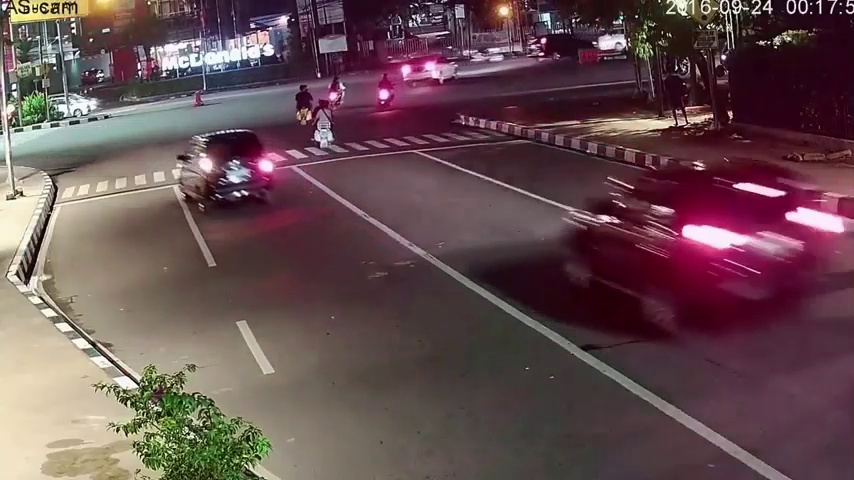car: (567, 162, 824, 337), (179, 131, 276, 210), (402, 54, 458, 90), (46, 93, 93, 113)
motorbike: (311, 101, 334, 152), (329, 75, 347, 109), (296, 83, 310, 125), (379, 75, 391, 110)
